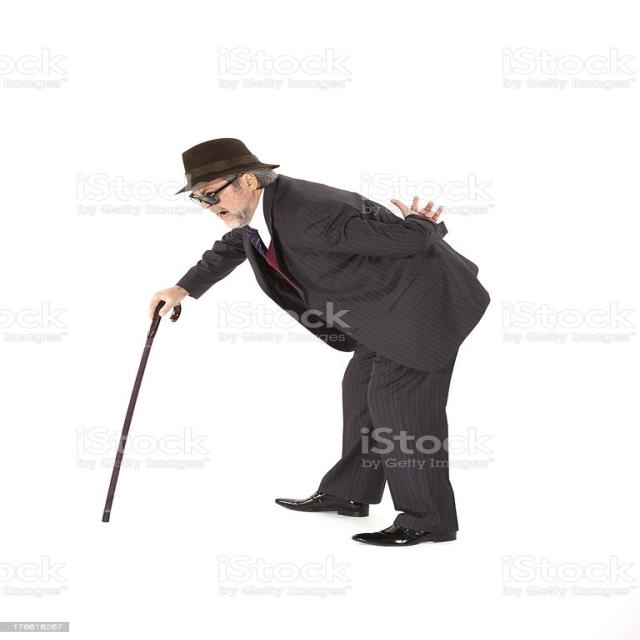idoso em pe: (153, 127, 497, 556)
